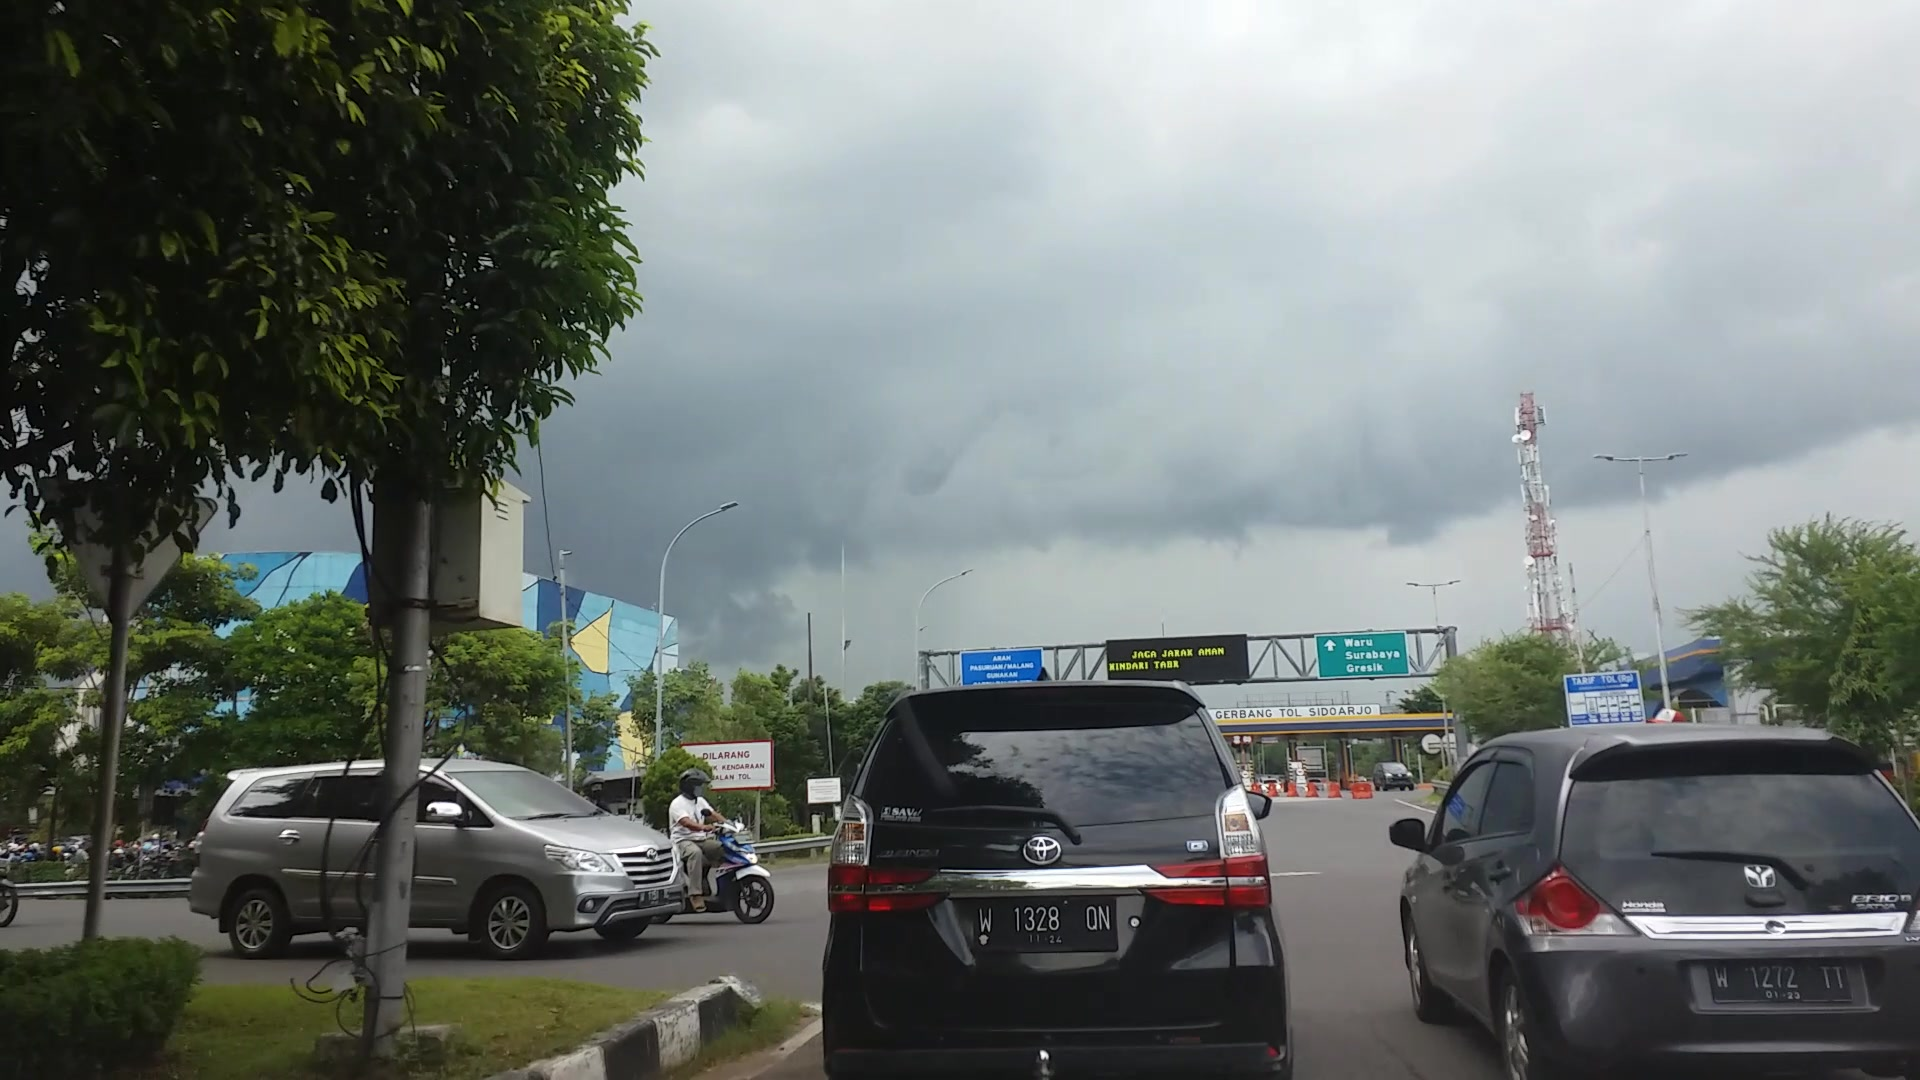plate_positive: (973, 899, 1117, 953), (1708, 963, 1851, 1004)
